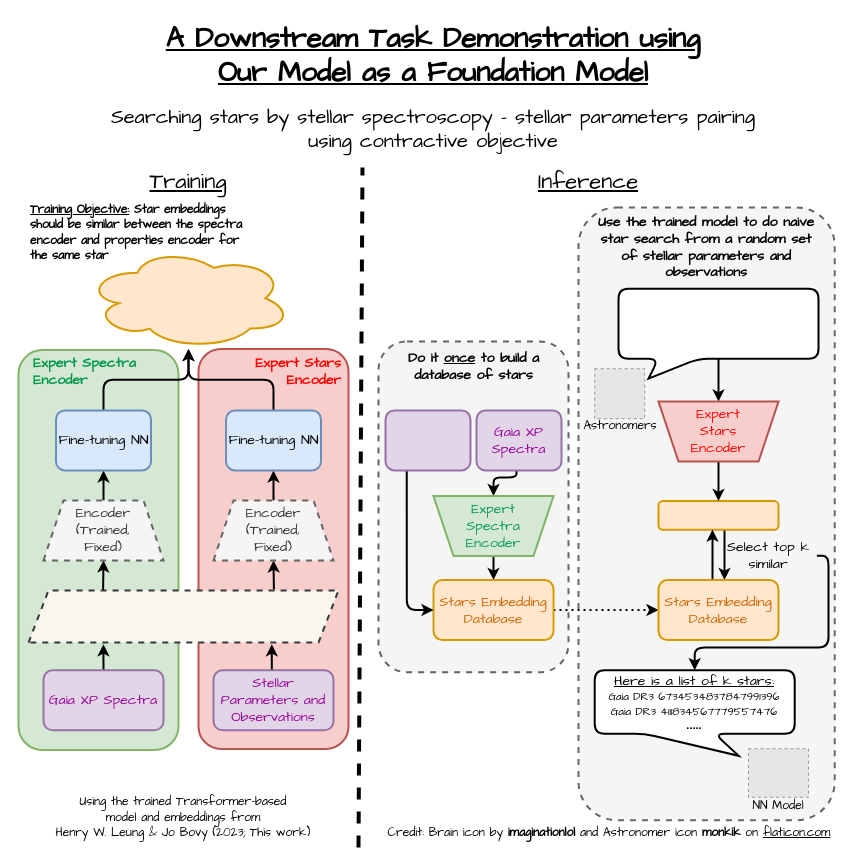
The diagram is 854 pixels wide and 867 high, and some of its shapes have lost their labels. Grey dashed boxes stand in for pictures. The box of each missing label's shape, as (x1, y1, x2, y2) in pixels:
Common Embedding Space: (84, 246, 292, 349)
Gaia Source IDs: (384, 409, 471, 471)
Non-linear embedding (Trained, Fixed): (27, 589, 339, 643)
Stars Embedding: (657, 500, 779, 530)
Top k stars most similar to a star with T eff =4700K, log(g)=2.5dex ....: (617, 287, 819, 379)
